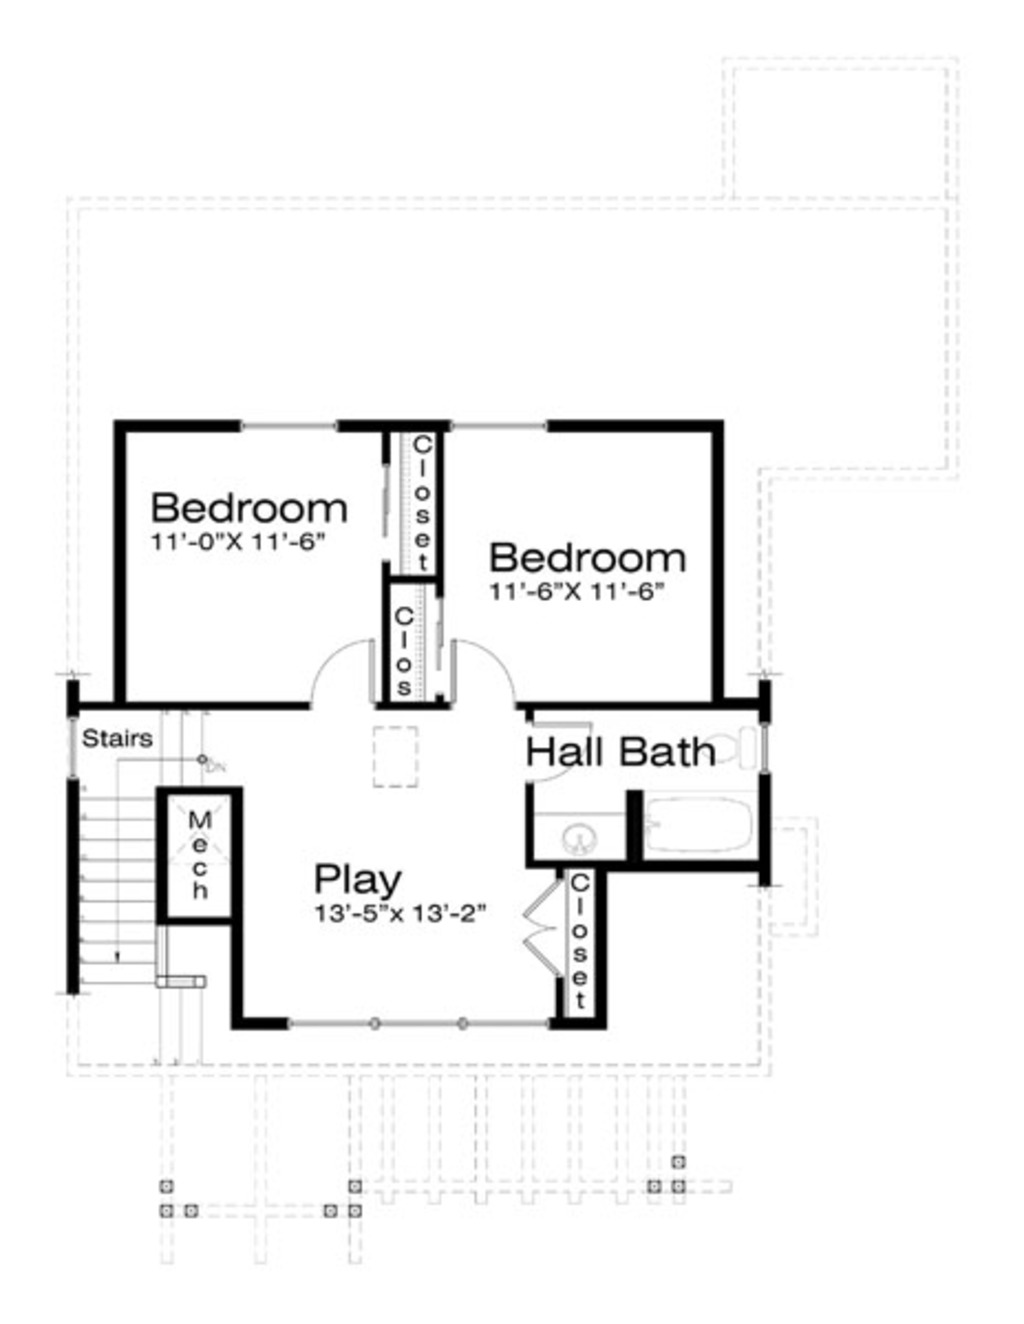door: (291, 632, 389, 714), (451, 632, 529, 722), (509, 706, 593, 786), (519, 876, 569, 978)
large_sink: (686, 728, 773, 780)
small_sink: (531, 804, 628, 866)
stairs: (71, 694, 233, 1002)
tub: (637, 786, 765, 864)
window: (447, 406, 557, 442), (237, 411, 341, 444)
